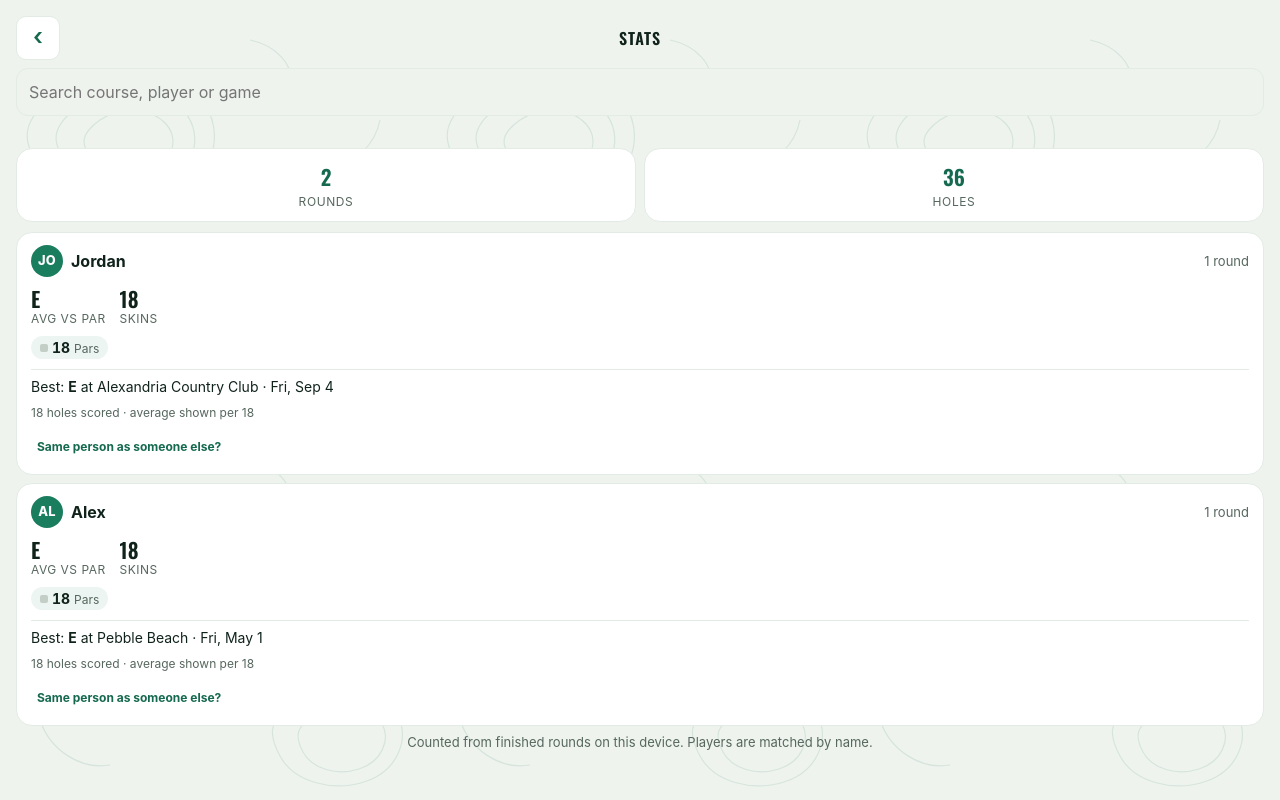
Test: filtering the stats › keeps the rounds and the cards agreeing when a course carries a name
The image size is (1280, 800).
Type "alex" into the search field named "Search rounds" at [640, 92], box [16,68,1264,116]
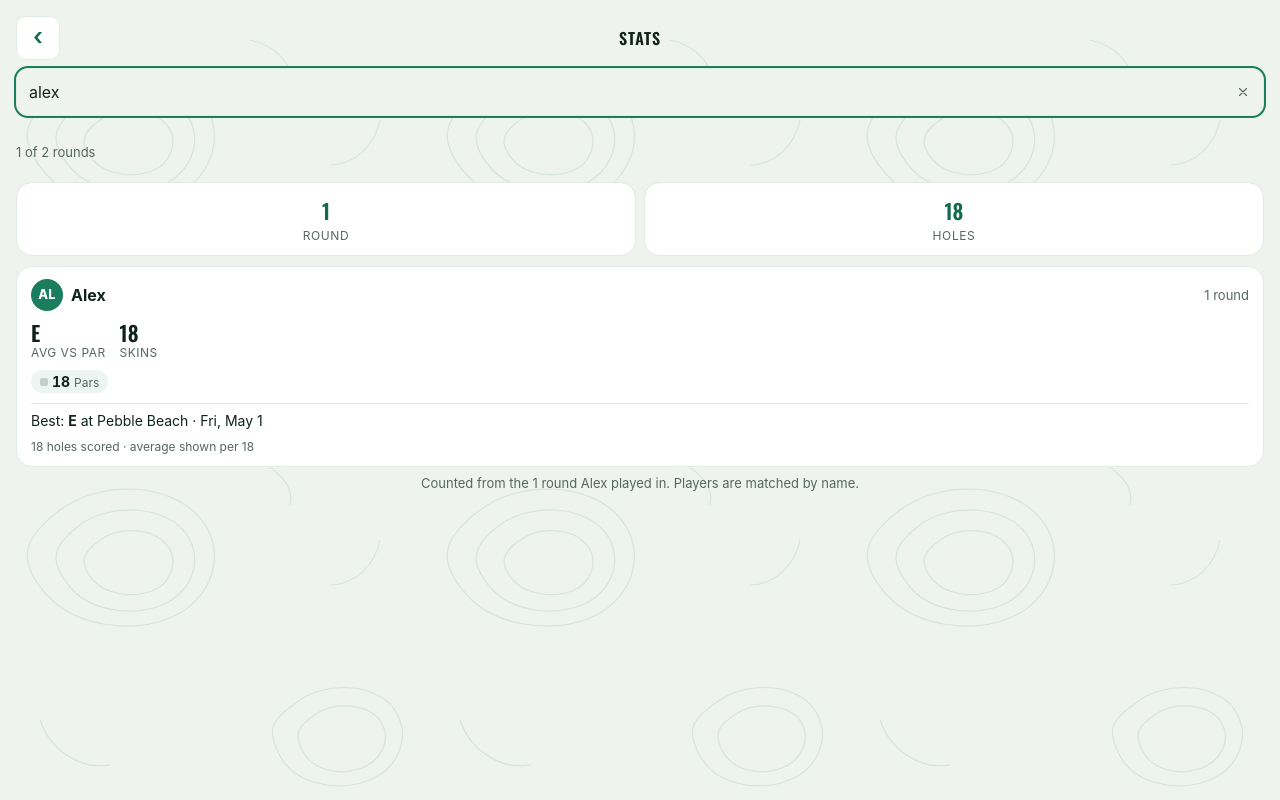
Result: the element with class "stat-sum" shows "1" at [322,195,330,226]
Result: the element with class "stat-sum" shows "18" at [944,195,963,226]
Result: the text "1 of 2 rounds" is shown at [16,144,96,160]
